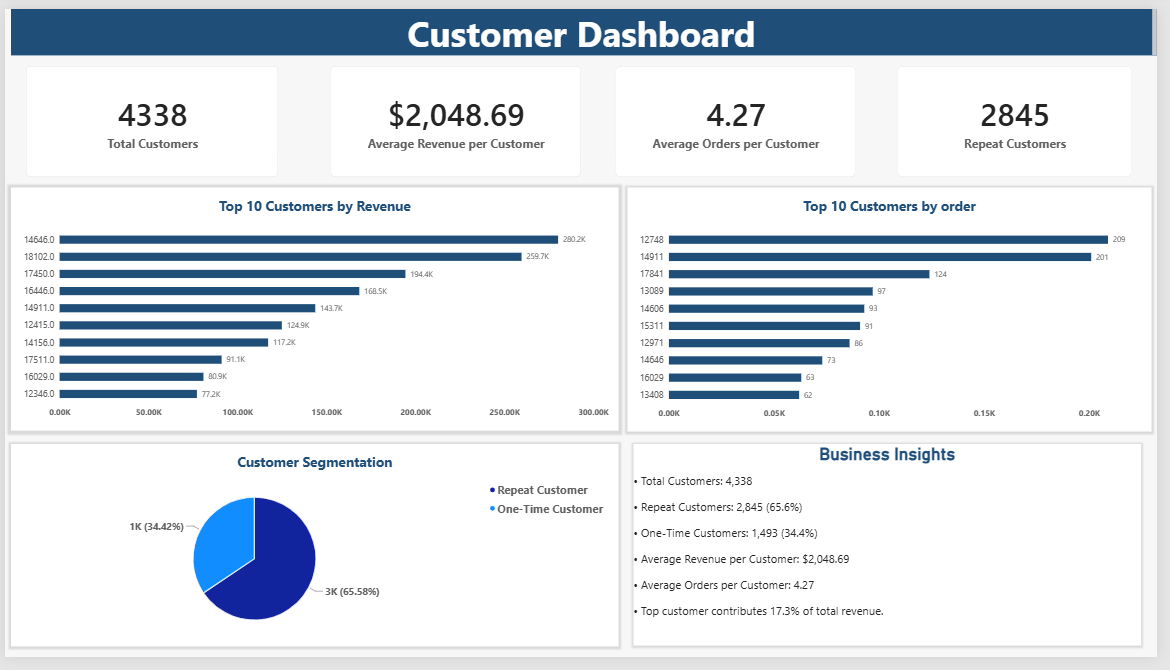

This screenshot's page, from the dashboard's own definition file:
{"tool":"powerbi","page":{"name":"Page 2","canvas":[1920,1080],"ordinal":1},"visuals":[{"type":"textbox","box":[10,0,1910,77.5],"z":0},{"type":"cardVisual","fields":{"Data":["online_retail_final.Total Customers"]},"box":[35,95,420,185],"z":1000},{"type":"cardVisual","fields":{"Data":["online_retail_final.Average Revenue per Customer"]},"box":[542.5,95,417.5,185],"z":2000},{"type":"cardVisual","fields":{"Data":["online_retail_final.Average Orders per Customer"]},"box":[1017.5,95,400,185],"z":3000},{"type":"cardVisual","fields":{"Data":["online_retail_final.Repeat Customers"]},"box":[1487.5,95,390,185],"z":4000},{"type":"clusteredBarChart","title":"Top 10 Customers by Revenue","fields":{"Category":["online_retail_final.CustomerID"],"Y":["Sum(online_retail_final.Revenue)"]},"box":[10,297.5,1012.5,405],"z":5000},{"type":"clusteredBarChart","title":"Top 10 Customers by order","fields":{"Category":["Table.CustomerID"],"Y":["Sum(Table.Orders)"]},"box":[1037.5,297.5,873.3,406.7],"z":6000},{"type":"pieChart","title":"Customer Segmentation","fields":{"Category":["Customer_Segmentation.Customer Type"],"Y":["Sum(Customer_Segmentation.Customers)"]},"box":[10,725,1012.5,337.5],"z":7000},{"type":"textbox","title":"Business Insights","box":[1047.5,725,830,337.5],"z":8000}]}

Visuals, with their boxes in screenshot pixels (x1, y1, x2, y2), scaled from the page's 1920x1080 canvas onto the 1170x670 screenshot:
textbox: box(6, 0, 1169, 48)
cardVisual - online_retail_final.Total Customers: box(21, 59, 277, 174)
cardVisual - online_retail_final.Average Revenue per Customer: box(331, 59, 585, 174)
cardVisual - online_retail_final.Average Orders per Customer: box(620, 59, 864, 174)
cardVisual - online_retail_final.Repeat Customers: box(906, 59, 1144, 174)
"Top 10 Customers by Revenue" clusteredBarChart: box(6, 185, 623, 436)
"Top 10 Customers by order" clusteredBarChart: box(632, 185, 1164, 437)
"Customer Segmentation" pieChart: box(6, 450, 623, 659)
"Business Insights" textbox: box(638, 450, 1144, 659)
